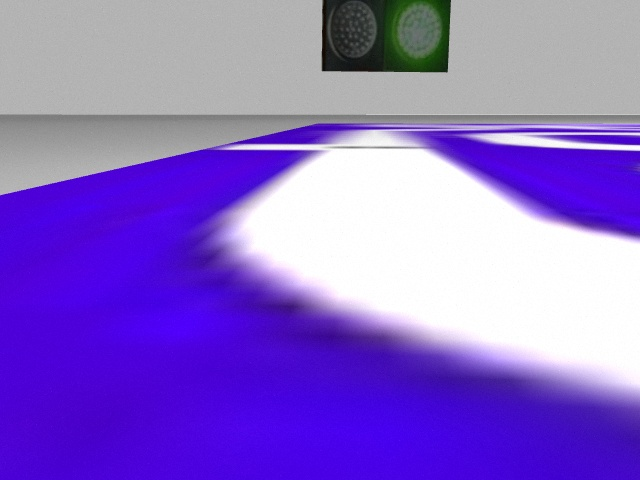green: (388, 1, 448, 75)
